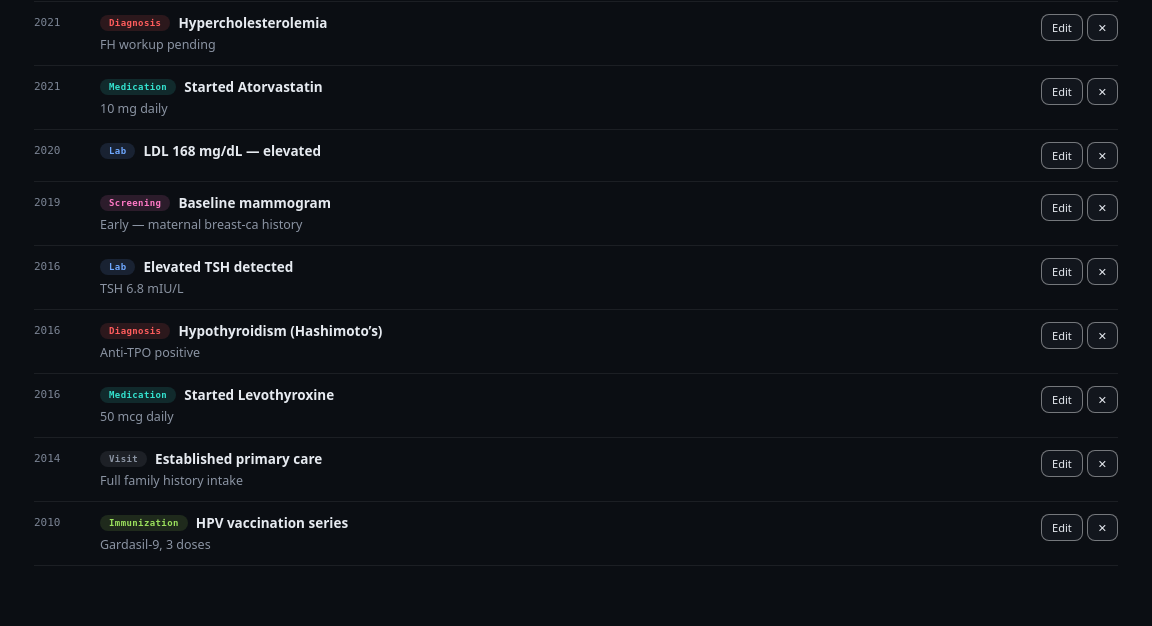
TimelineView › edits an existing event in place through updateEvent
(page scrolled)
// Open the inline editor for a seed event.
Click the button with aria-label "edit started levothyroxine".
click(1062, 399)  # box [1041,386,1083,413]
(page scrolled)
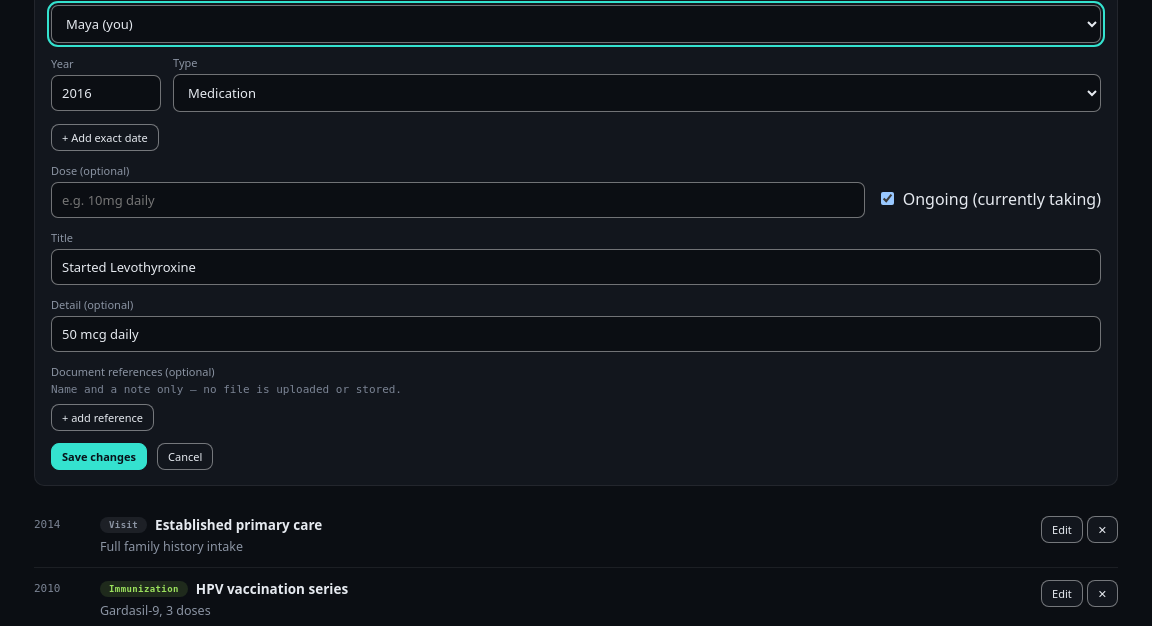
Replace the text in the field labelled "Title" with "Adjusted levothyroxine dose" at (576, 267), box [51,249,1101,285]
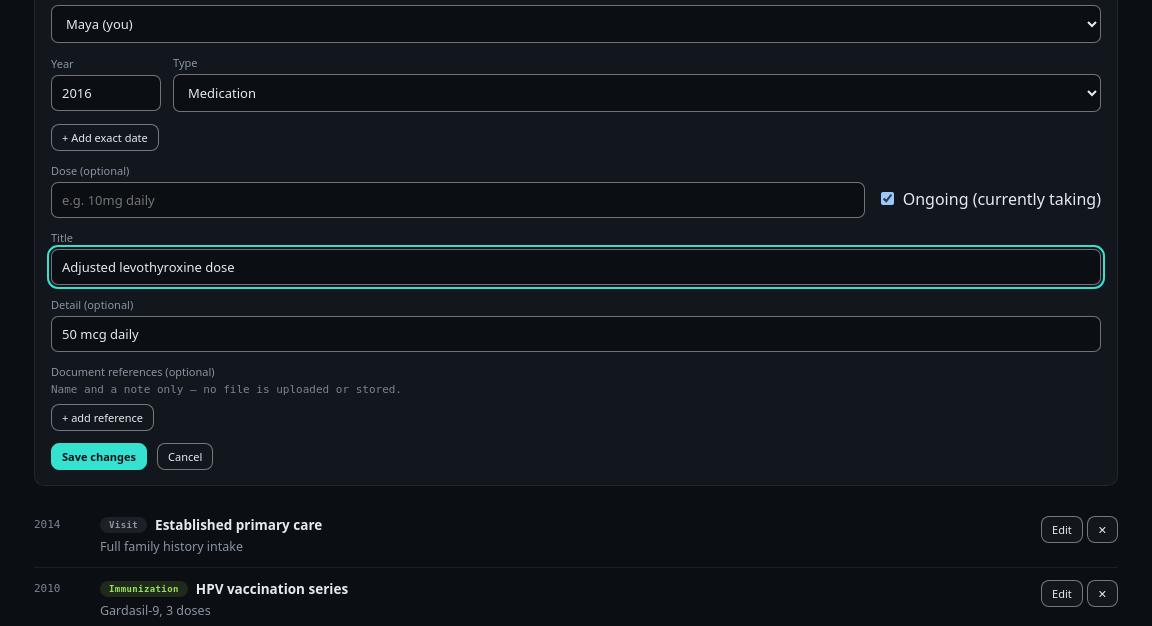
Click the button "Save changes".
click(99, 456)  # box [51,443,147,470]
(page scrolled)
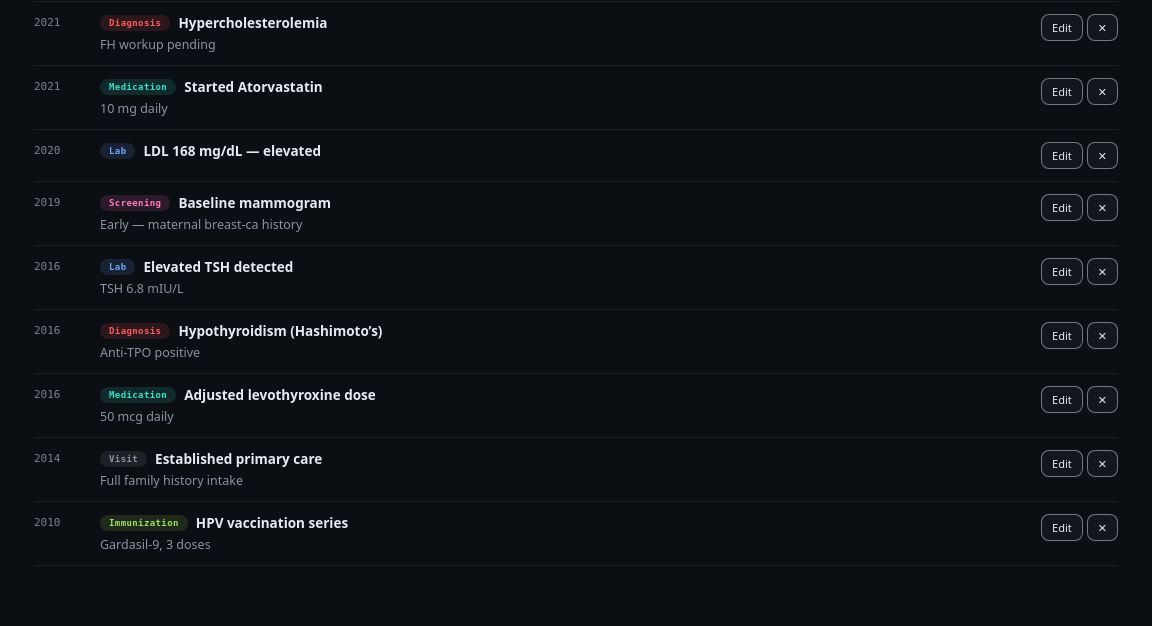
Expected: the text "Started Levothyroxine" is not shown
Result: the text "Adjusted levothyroxine dose" is shown at [184,386,376,404]
